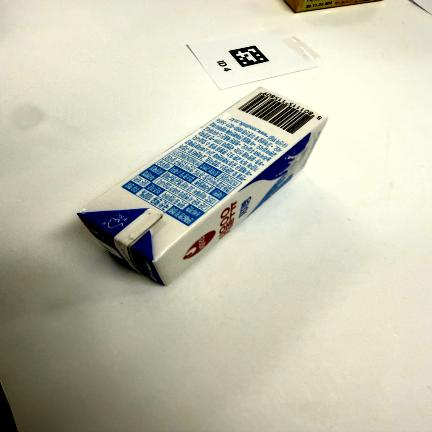milk_blue: (79, 87, 327, 285)
